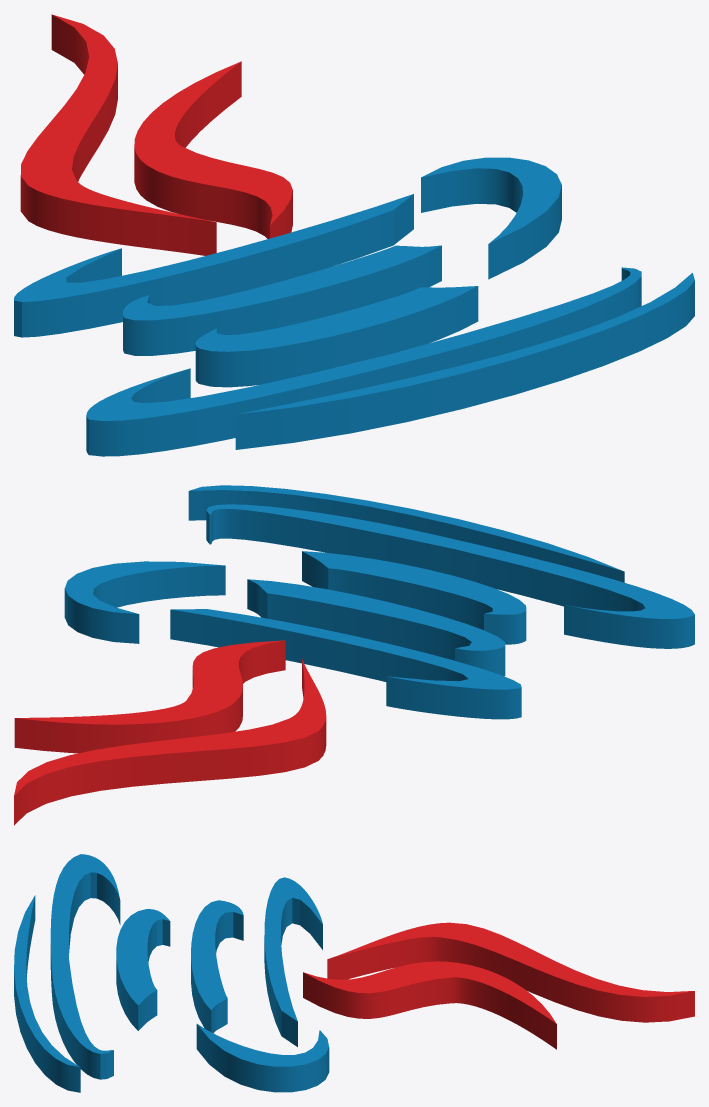
File: java.fbx
3 views of the same model, one above another, from view 1: azimuth 30°, elevation 25°; view 2: azimuth 150°, elevation 25°; view 3: azimuth 270°, elevation 25° (orthographic). The views are drawn at different scales.
Visible parts, largest first — view 1: BezierCurve; view 2: BezierCurve; view 3: BezierCurve.
Boxes of the visible parts, left/top/right/bottom form: BezierCurve: left=14, top=14, right=694, bottom=456; BezierCurve: left=14, top=485, right=694, bottom=825; BezierCurve: left=14, top=854, right=694, bottom=1092.
Size of the model in its own units: 281 by 379 by 15.8.
